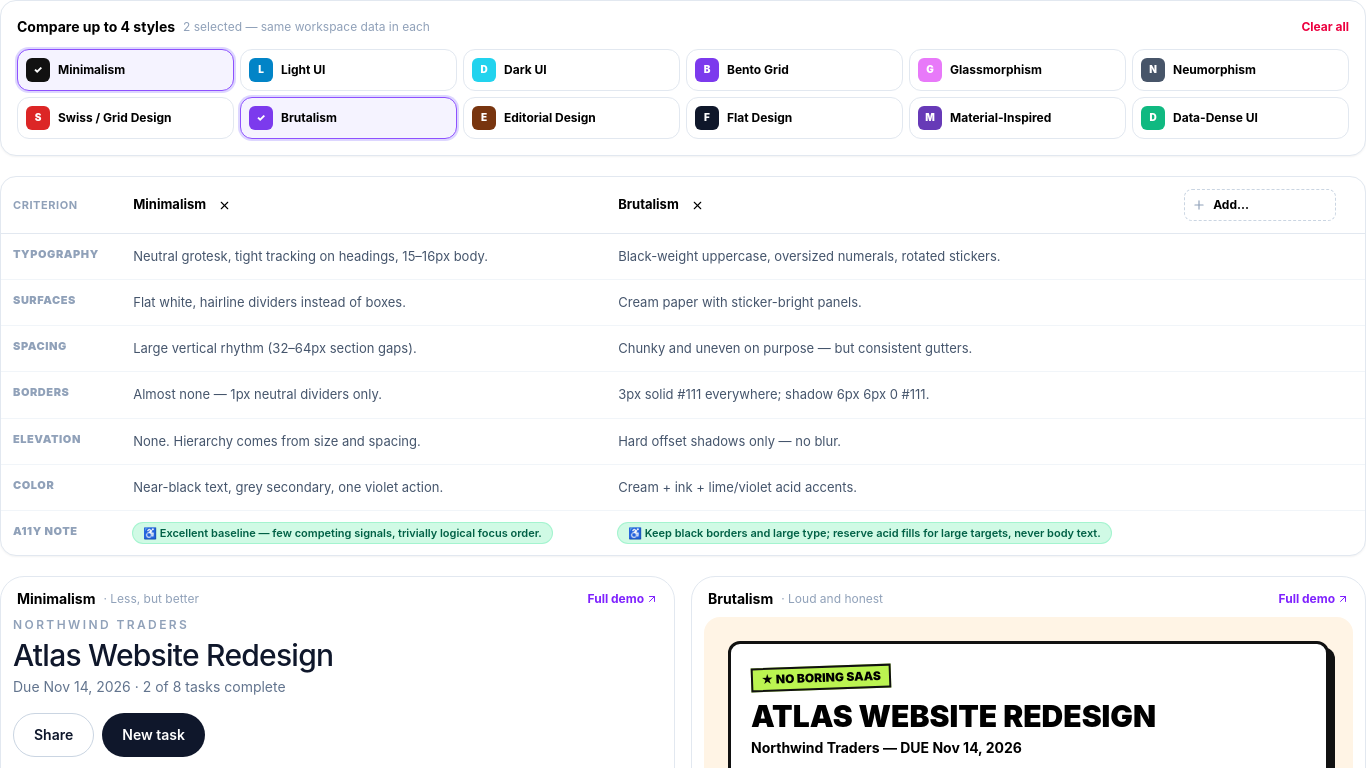
it: comparison › removes a style and asks for a replacement
The image size is (1366, 768).
Click the button named "Remove Brutalism from comparison" at (697, 205), box [687, 194, 708, 216]
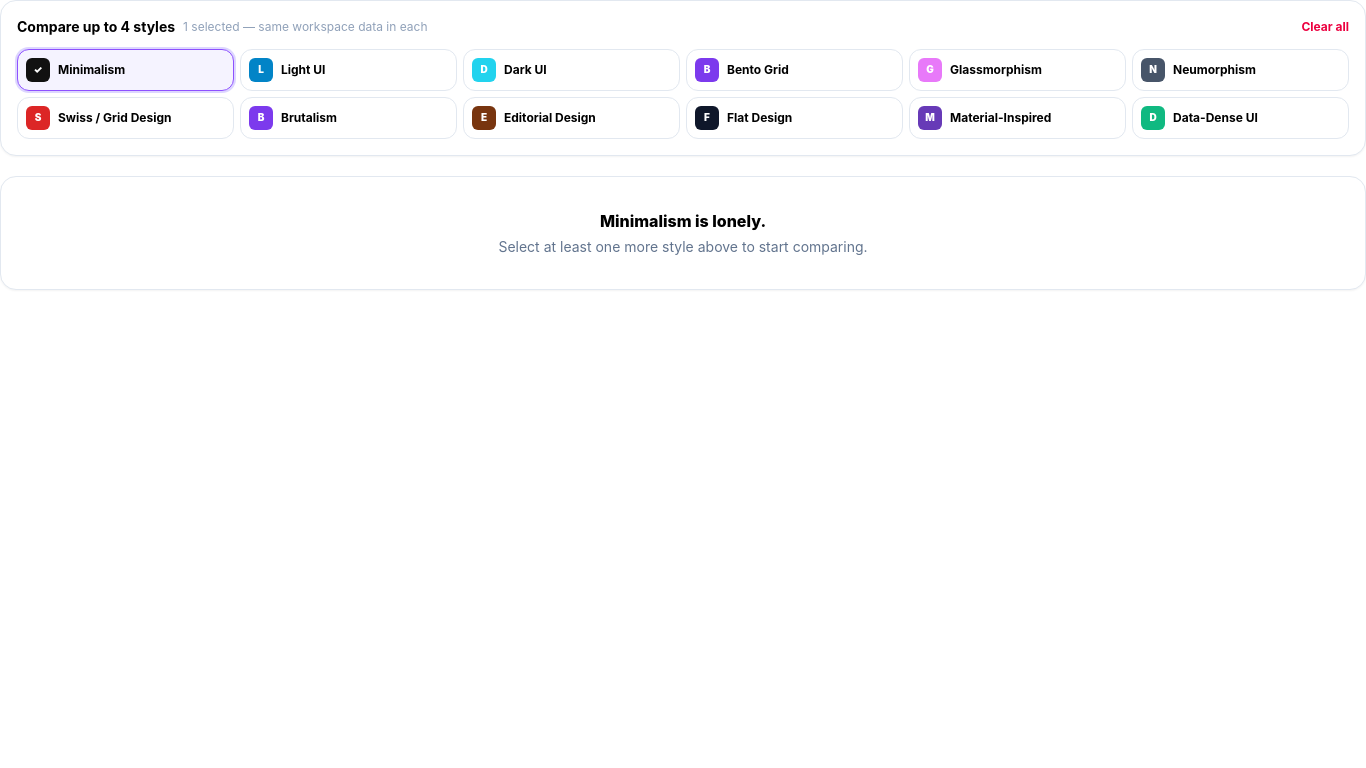
Expected: the text "Minimalism is lonely." is shown, [600, 211, 766, 231]
Expected: the table is gone
